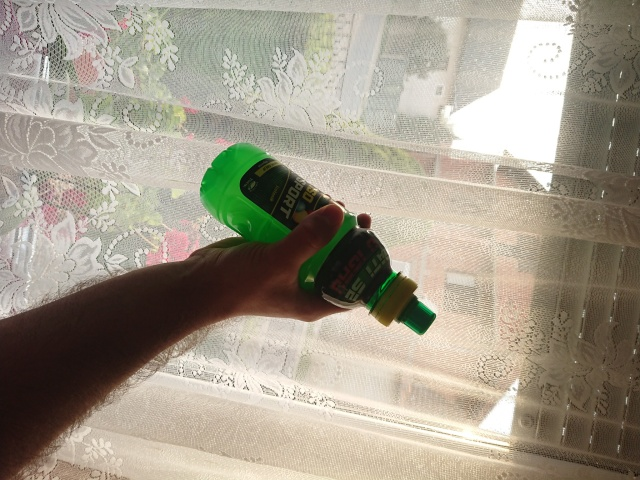Vindi Iso Sport Lemon-Grapefruit 500mL: (196, 140, 439, 338)
